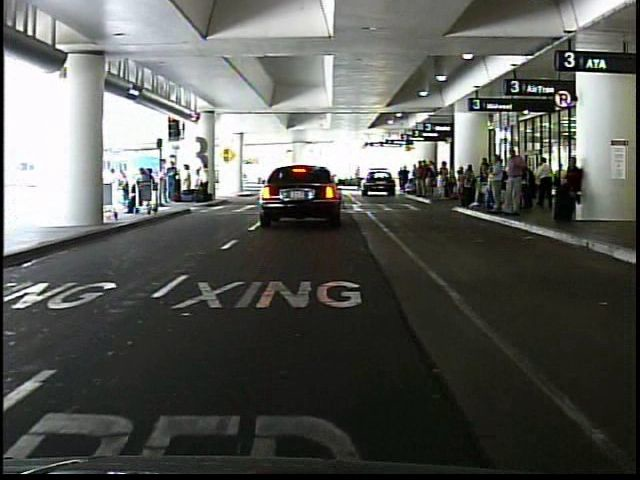person: (500, 140, 529, 222), (555, 151, 584, 227), (533, 153, 555, 212), (485, 152, 505, 213), (110, 160, 130, 216), (167, 155, 181, 203), (197, 158, 211, 200), (182, 161, 195, 201)
